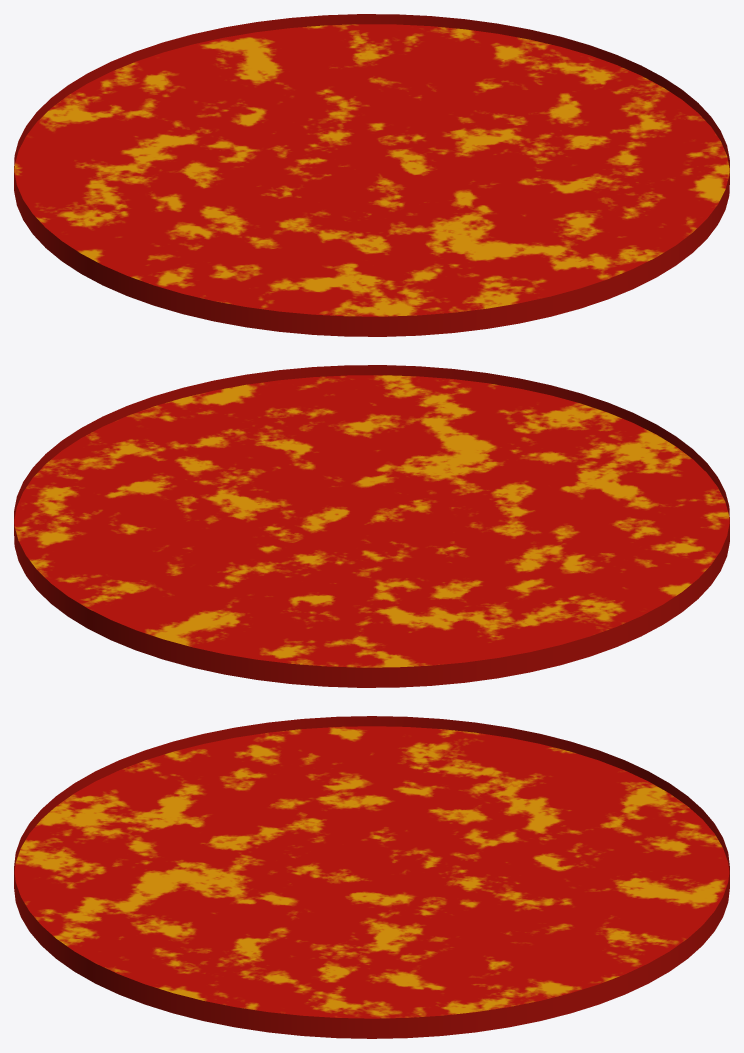
Rendered from lava_lake_r4.obj.
3 renders of one model, top to bottom at view 1: azimuth 30°, elevation 25°; view 2: azimuth 150°, elevation 25°; view 3: azimuth 270°, elevation 25°, orthographic.
Parts seen in each view (by area): view 1: lava_r4; view 2: lava_r4; view 3: lava_r4.
Part boxes in pixels (x1,y1,x2,y2): lava_r4: (14,14,729,336); lava_r4: (14,365,729,687); lava_r4: (14,716,729,1038).
Size of the model in its own units: 8 by 0.25 by 8.
